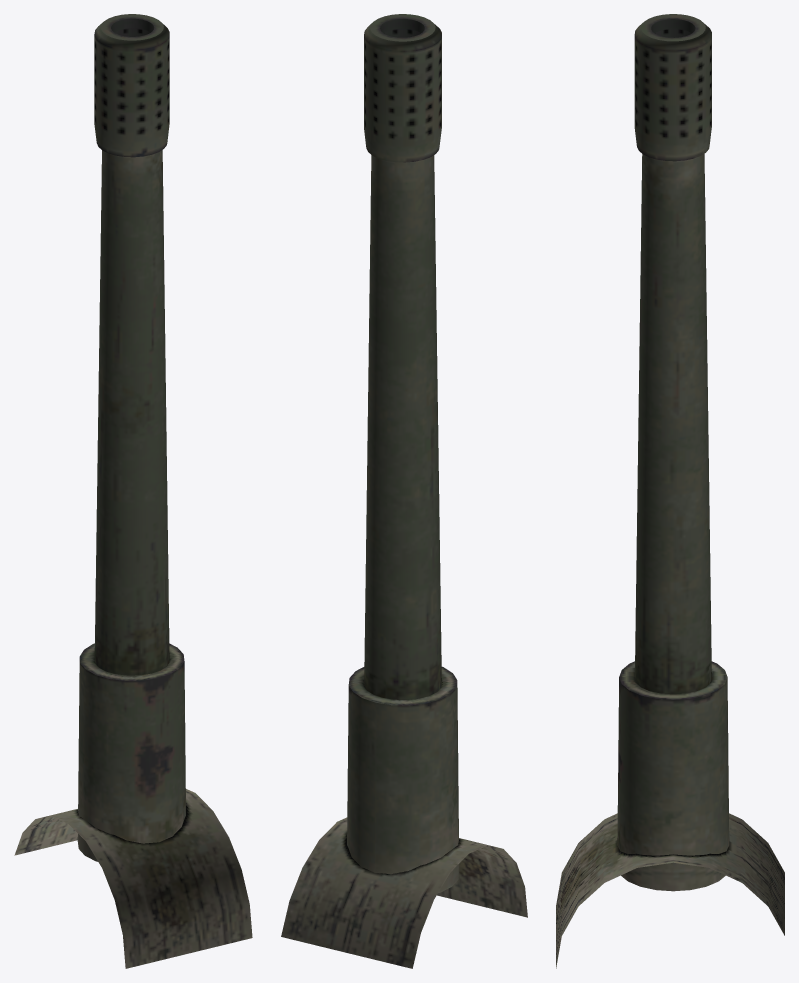
File: Gun_01.glb
The picture shows the model from 3 angles, left to right: view 1: azimuth 30°, elevation 25°; view 2: azimuth 150°, elevation 25°; view 3: azimuth 270°, elevation 25°; orthographic projection. The views are drawn at different scales.
Visible parts, largest first — view 1: set_0_group_0; view 2: set_0_group_0; view 3: set_0_group_0.
Part boxes in pixels (x1,y1,x2,y2): set_0_group_0: (14, 14, 252, 968); set_0_group_0: (281, 14, 527, 968); set_0_group_0: (556, 14, 784, 968).
Size of the model in its own units: 0.1942 by 1.29 by 0.2946.
1 material, 1 textured.
